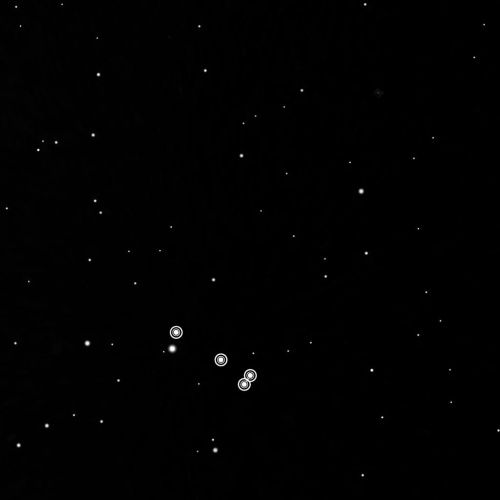sagitta: (163, 320, 261, 395)
